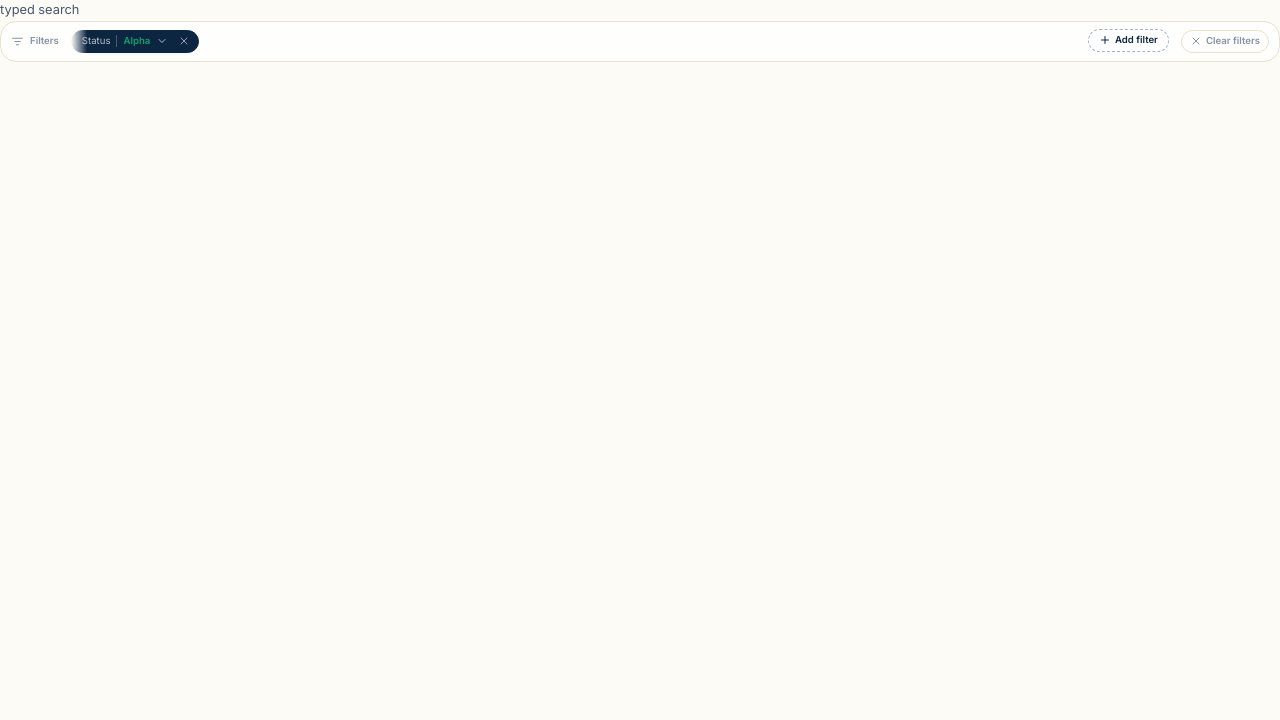
FilterBar › is two sibling buttons, and the chip body opens a panel with no sort rows
Click the button "Status Alpha": (123, 41) top-left (72, 31), bottom-right (174, 52)
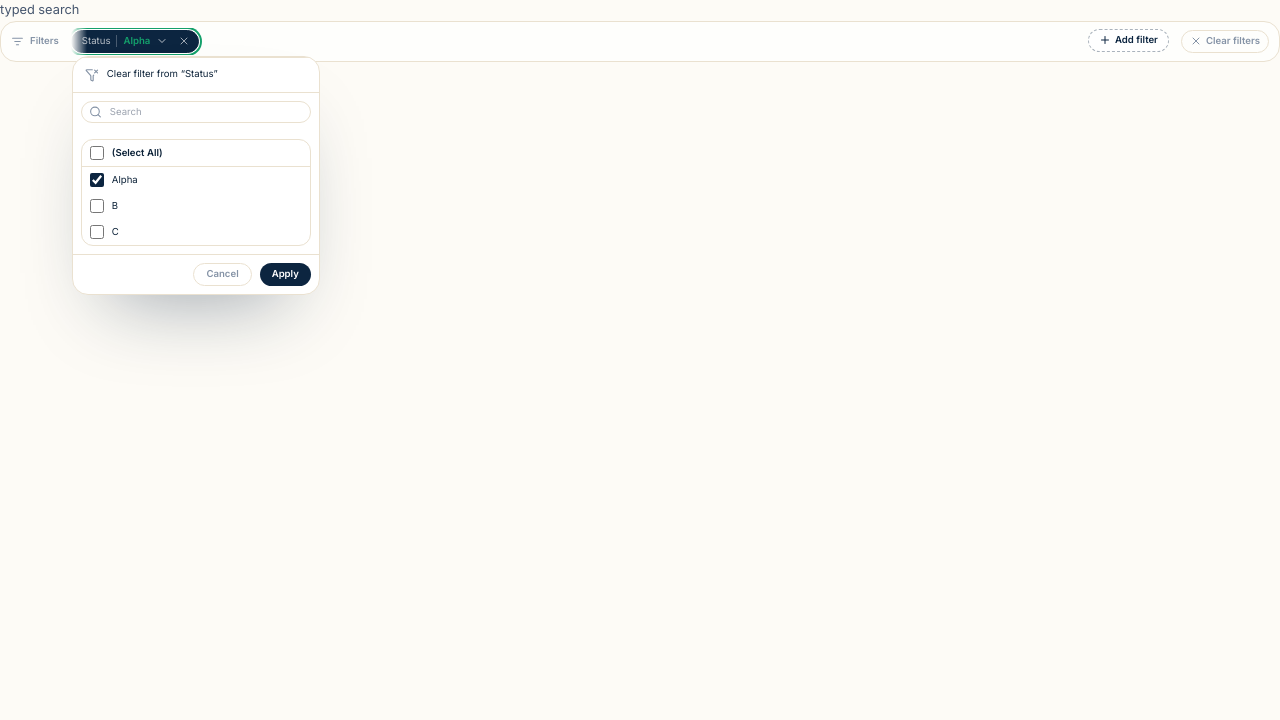
Check: the button "Clear filter from “Status”" is shown, box top-left (73, 62), bottom-right (319, 88)
